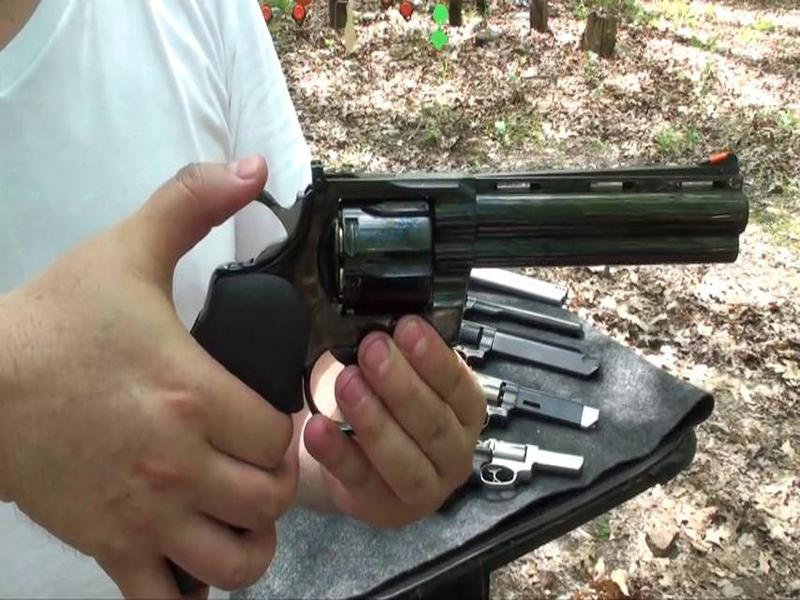Revolver: (187, 129, 760, 384)
